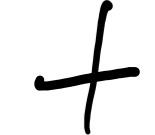plus: (34, 0, 140, 134)
